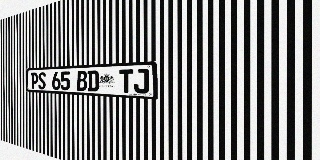plate: (26, 61, 158, 99)
